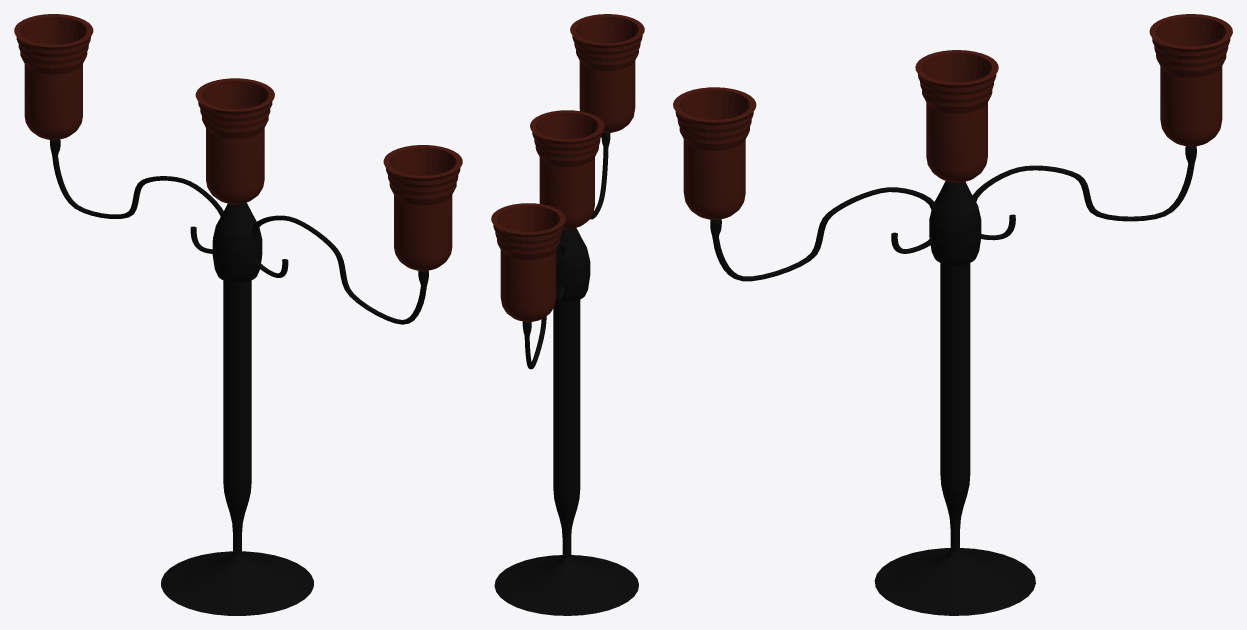
The model's file is Candelobra.obj.
3 renders of one model, left to right at view 1: azimuth 30°, elevation 25°; view 2: azimuth 150°, elevation 25°; view 3: azimuth 270°, elevation 25°, orthographic. The views are drawn at different scales.
Parts seen in each view (by area): view 1: Cylinder001, Cylinder002, Cylinder004, Cylinder003, Line003, Line004; view 2: Cylinder001, Cylinder004, Cylinder003, Cylinder002, Line004, Line003; view 3: Cylinder001, Cylinder003, Cylinder004, Cylinder002, Line003, Line004.
Part boxes in pixels (x1,y1,x2,y2): Cylinder001: (161,202,313,615); Cylinder002: (195,78,274,204); Cylinder004: (14,14,93,140); Cylinder003: (383,145,462,271); Line003: (252,215,428,324); Line004: (50,139,223,253); Cylinder001: (494,228,638,615); Cylinder004: (491,203,565,322); Cylinder003: (570,14,644,132); Cylinder002: (530,110,604,229); Line004: (522,243,565,369); Line003: (590,132,610,219); Cylinder001: (874,181,1035,615); Cylinder003: (673,87,756,220); Cylinder004: (1149,14,1232,146); Cylinder002: (915,50,998,182); Line003: (710,187,936,281); Line004: (972,146,1196,240).
Size of the model in its own units: 148056 by 326593 by 322733.
